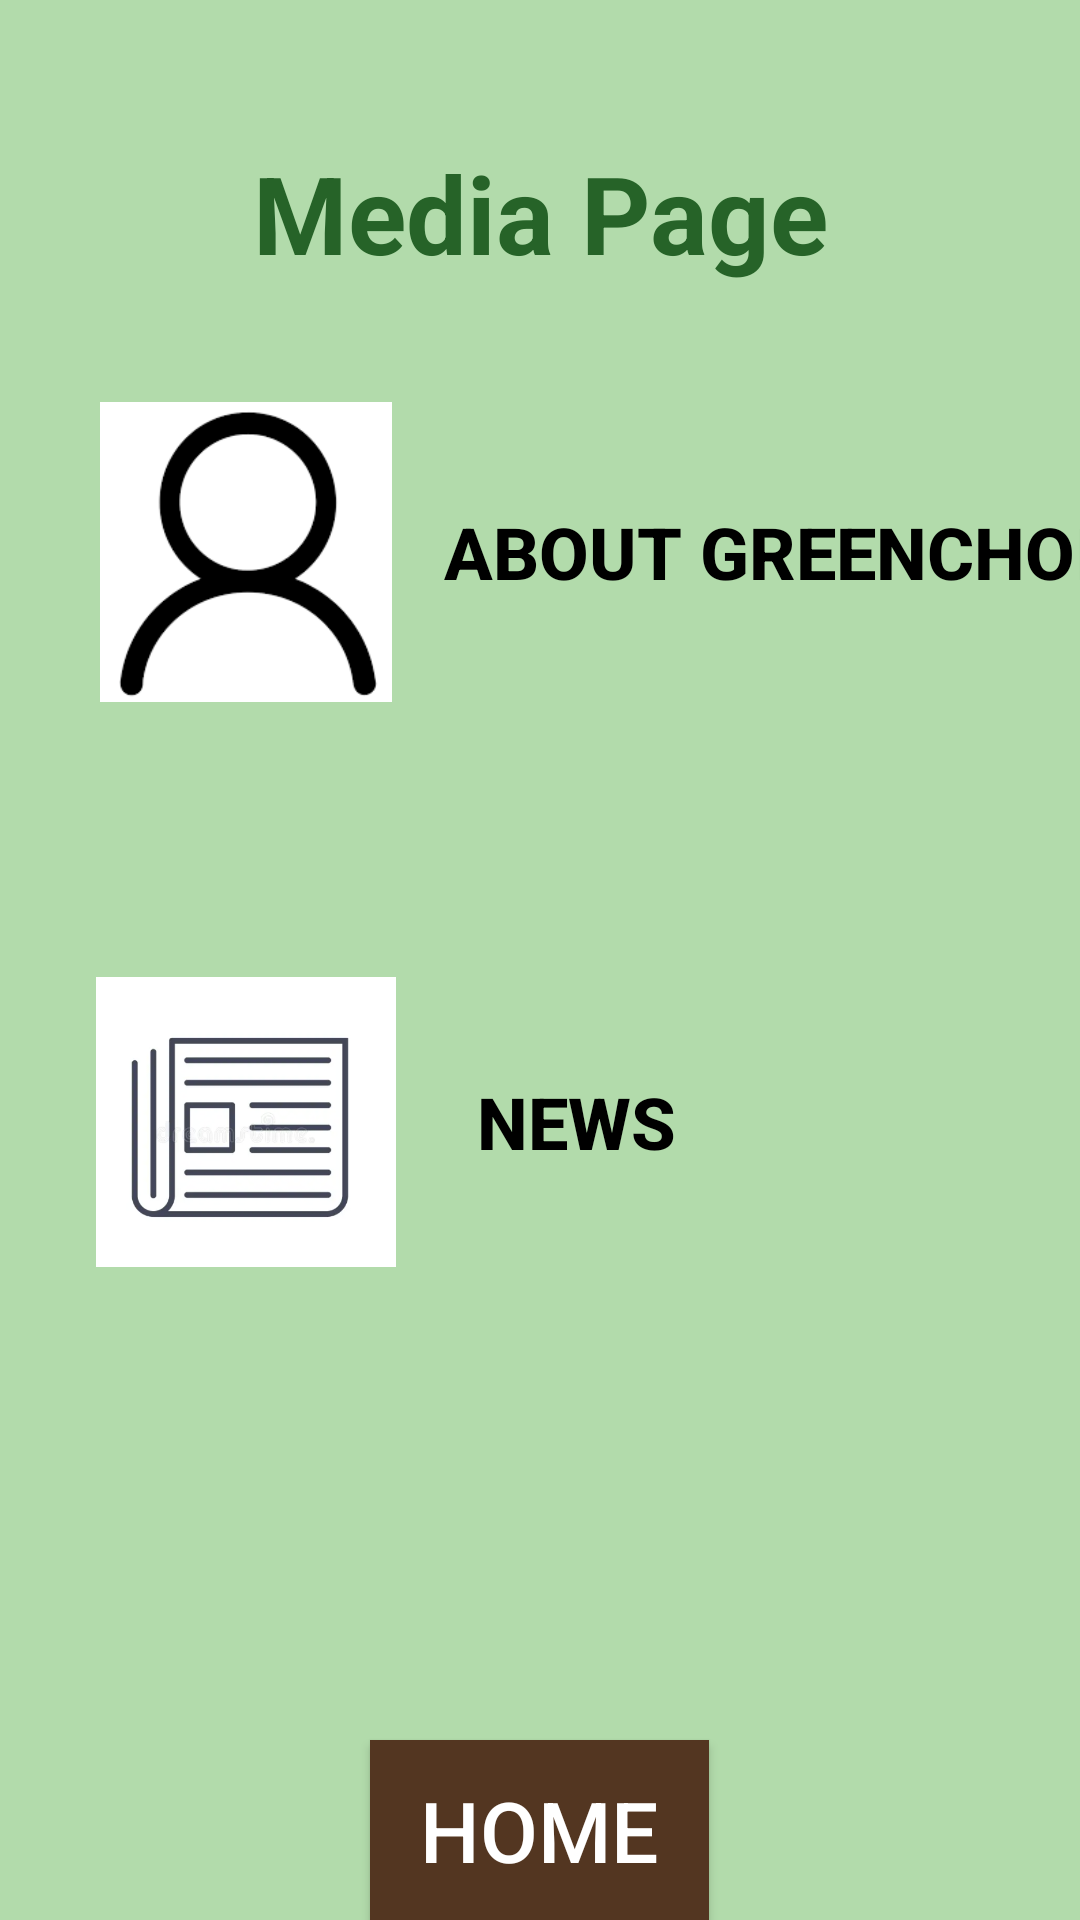

Named icons in this screenshot (1080px×1920px) and their bounding boxes, (x1, y1, x2, y2):
About Me Icon: (100, 402, 392, 702)
